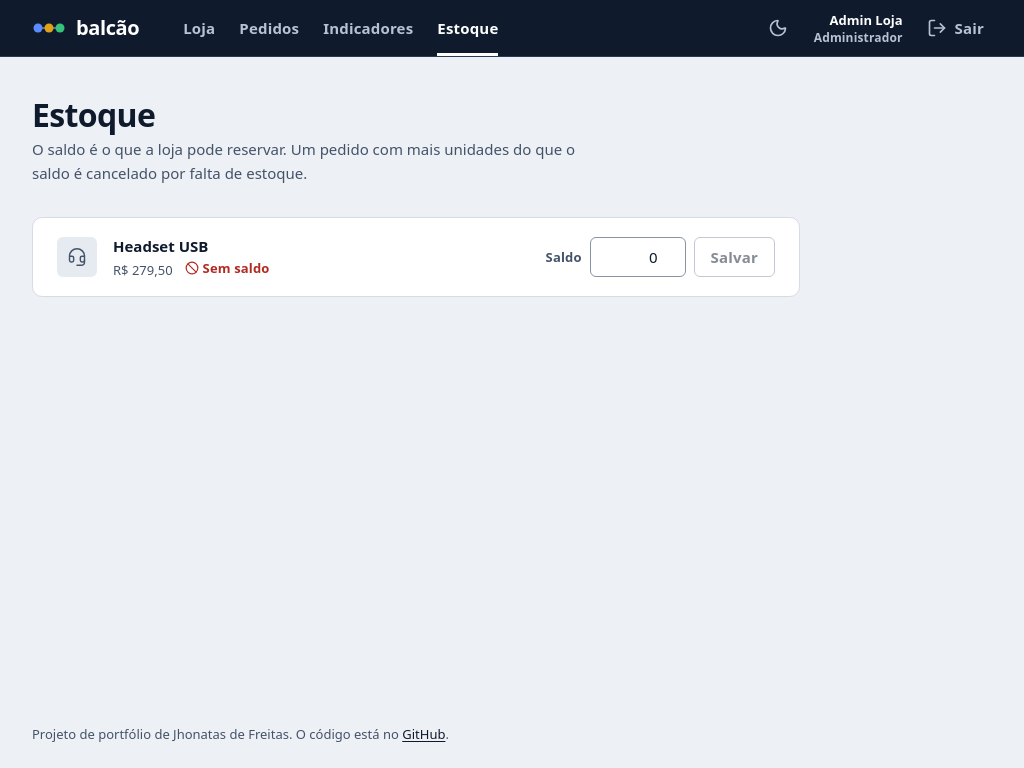
Test: stock › savesTheNewQuantityOfAProduct
This screenshot has width=1024, height=768.
Expected: the button with aria-label "Salvar saldo de Headset USB" is disabled, left=694, top=237, right=775, bottom=277
Clear the number field named "Saldo de Headset USB" at (638, 257), box left=590, top=237, right=686, bottom=277
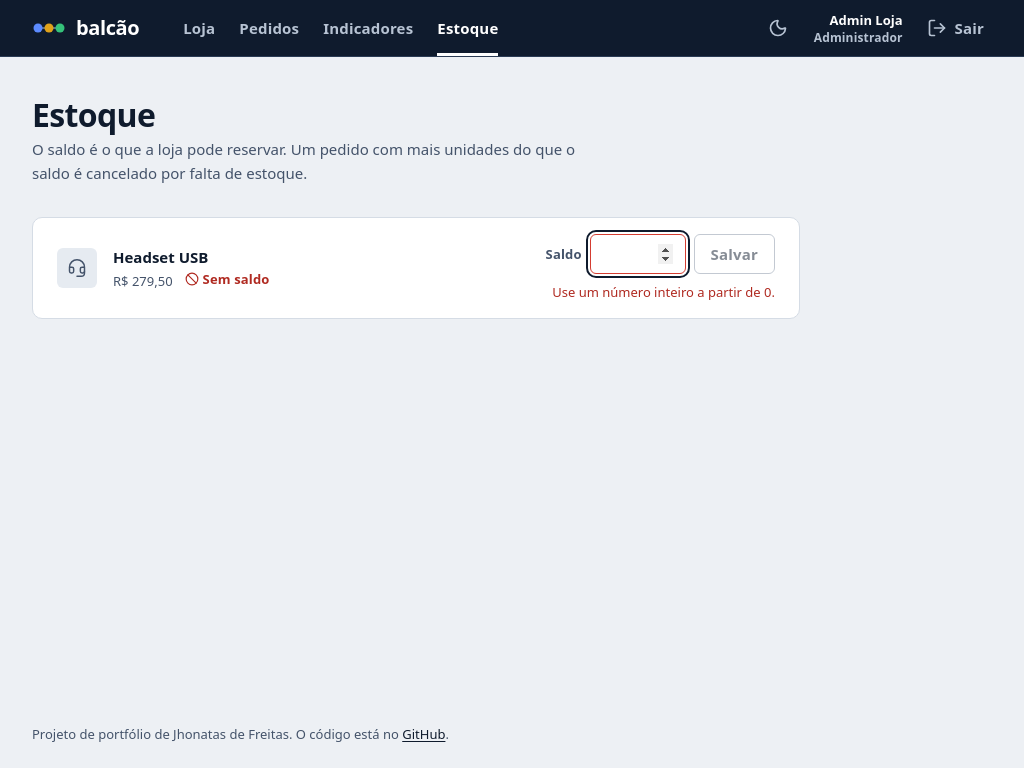
Type "5" into the number field named "Saldo de Headset USB" at (638, 254), box left=590, top=234, right=686, bottom=274
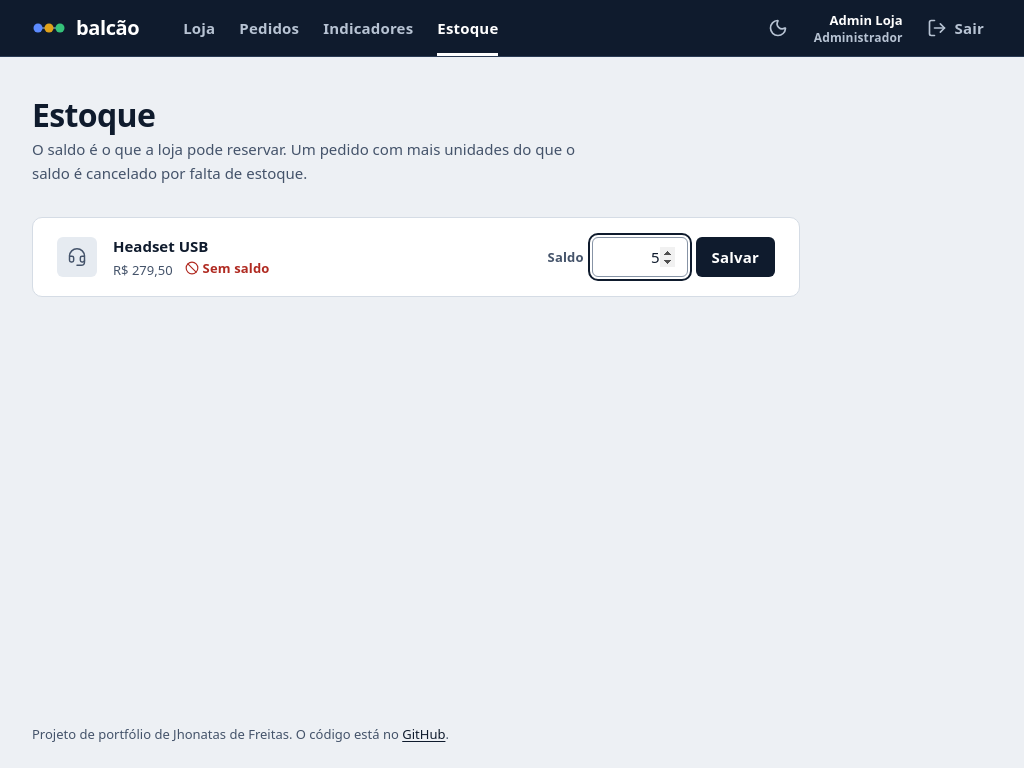
Click the button with aria-label "Salvar saldo de Headset USB" at (735, 257), box left=696, top=237, right=775, bottom=277
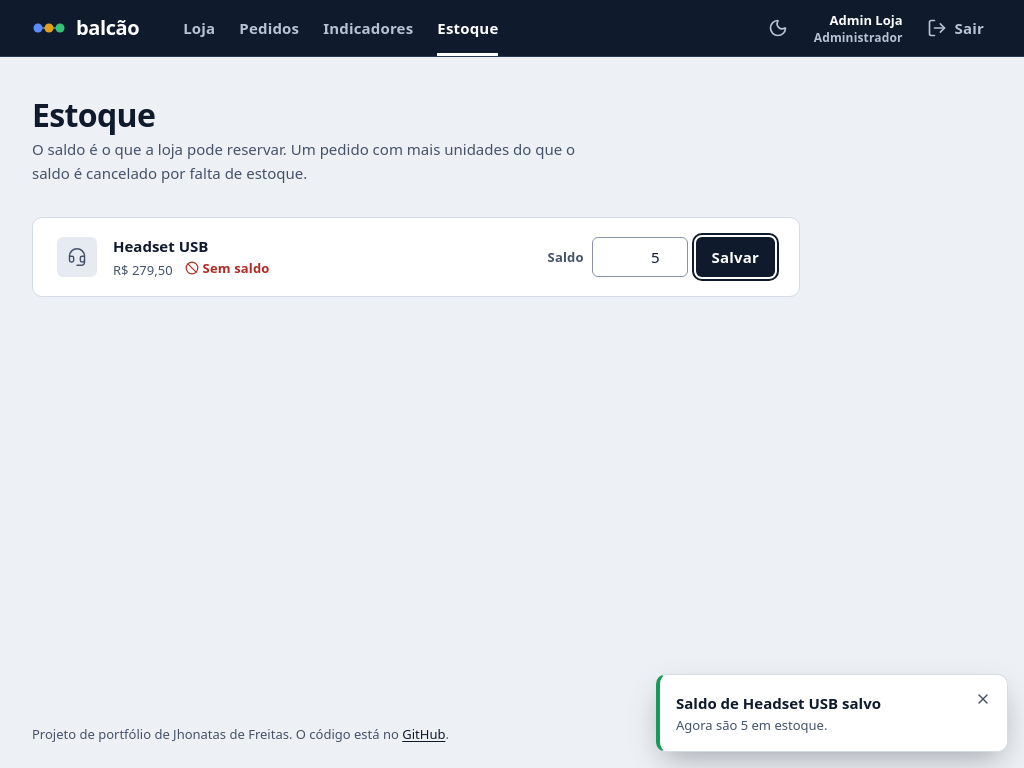
Now the text "Saldo de Headset USB salvo" is shown, box left=676, top=693, right=881, bottom=713
